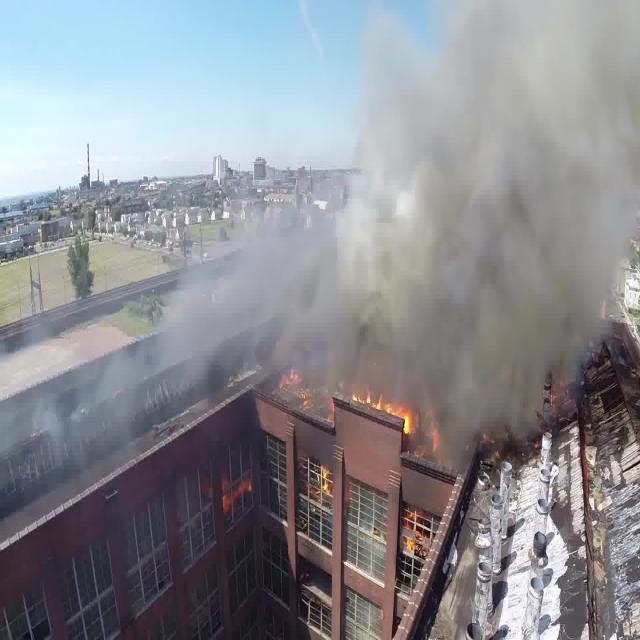Fire: (310, 462, 434, 560), (344, 386, 414, 442), (279, 366, 337, 428), (416, 400, 448, 451)
Smoke: (0, 0, 640, 485)
